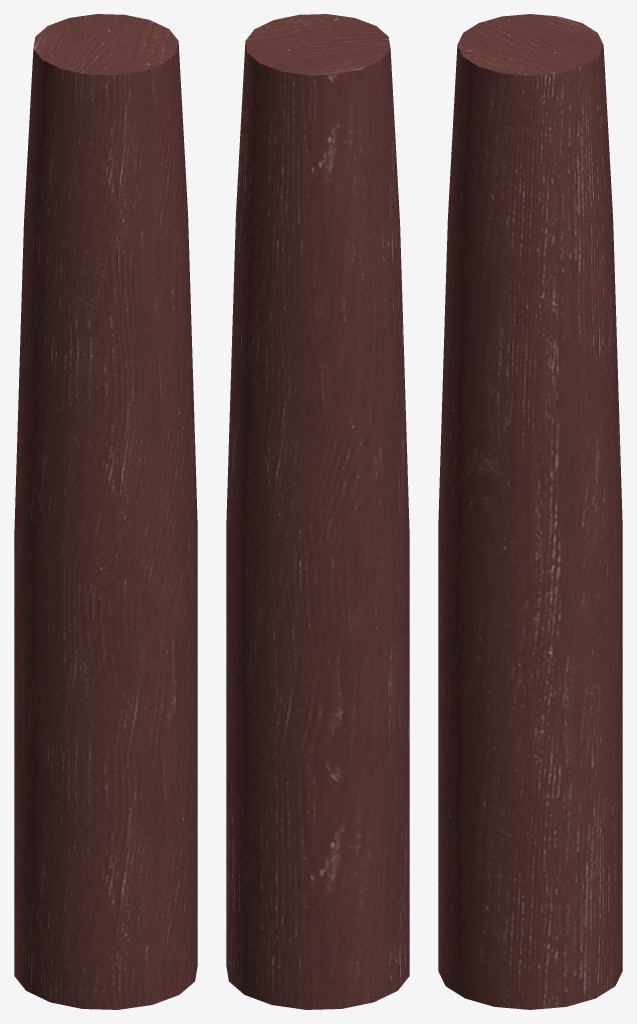
File: SM_Geumsan_Mi_Pillar_B.fbx
The picture shows the model from 3 angles, left to right: view 1: azimuth 30°, elevation 25°; view 2: azimuth 150°, elevation 25°; view 3: azimuth 270°, elevation 25°; orthographic projection.
Visible parts, largest first — view 1: SM_Geumsan_Mi_Pillar_B; view 2: SM_Geumsan_Mi_Pillar_B; view 3: SM_Geumsan_Mi_Pillar_B.
Boxes of the visible parts, box(x1,y1,x2,y2) form: SM_Geumsan_Mi_Pillar_B: box(14, 14, 197, 1009); SM_Geumsan_Mi_Pillar_B: box(226, 14, 409, 1009); SM_Geumsan_Mi_Pillar_B: box(438, 14, 622, 1009).
Size of the model in its own units: 74 by 410 by 74.
